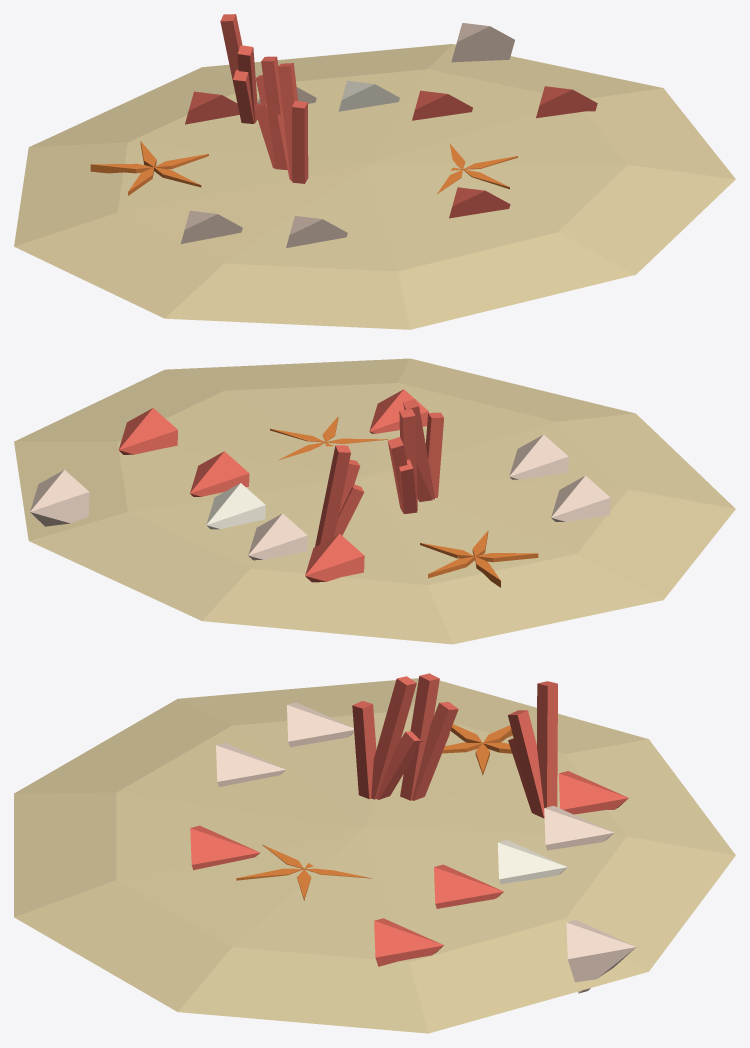
Rendered from cover_shells.glb.
3 views of the same model, one above another, from view 1: azimuth 30°, elevation 25°; view 2: azimuth 150°, elevation 25°; view 3: azimuth 270°, elevation 25° (orthographic). The views are drawn at different scales.
Visible parts, largest first — view 1: nature_beach_shells; view 2: nature_beach_shells; view 3: nature_beach_shells.
Boxes of the visible parts, x1=… form: nature_beach_shells: x1=14, y1=14, x2=735, y2=329; nature_beach_shells: x1=14, y1=358, x2=735, y2=644; nature_beach_shells: x1=14, y1=673, x2=735, y2=1033.
Size of the model in its own units: 2.83 by 0.6287 by 2.42.
